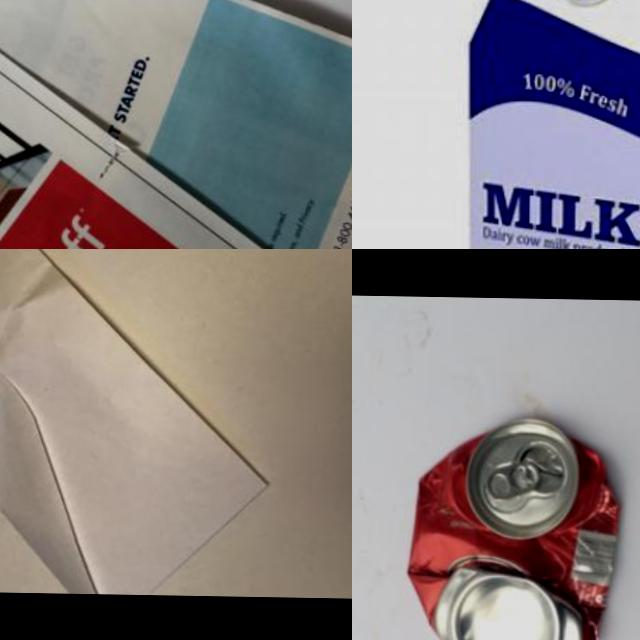aba de lata: (486, 459, 542, 498)
caixinha: (458, 0, 640, 249)
lata: (405, 412, 625, 640)
papel: (0, 249, 269, 597), (0, 0, 352, 249)
